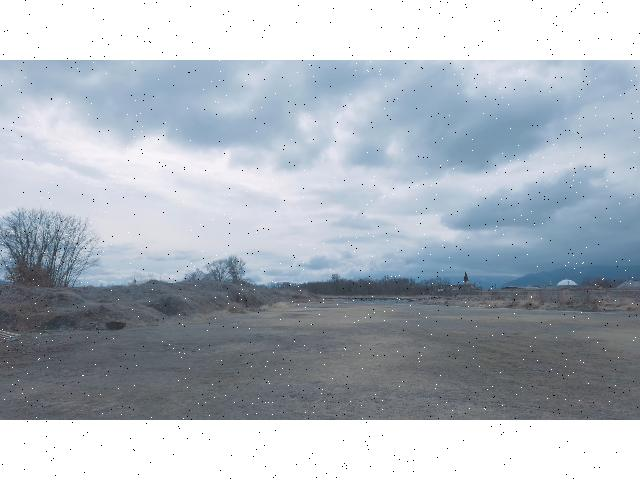Anti-Drone: (298, 277, 314, 287)
